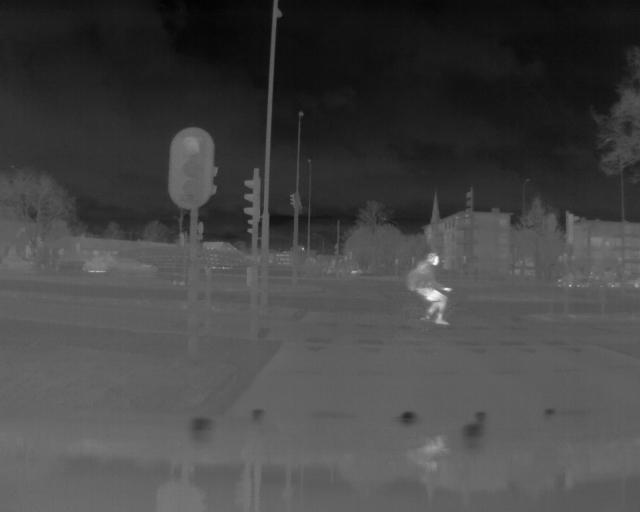person: (405, 251, 456, 333)
